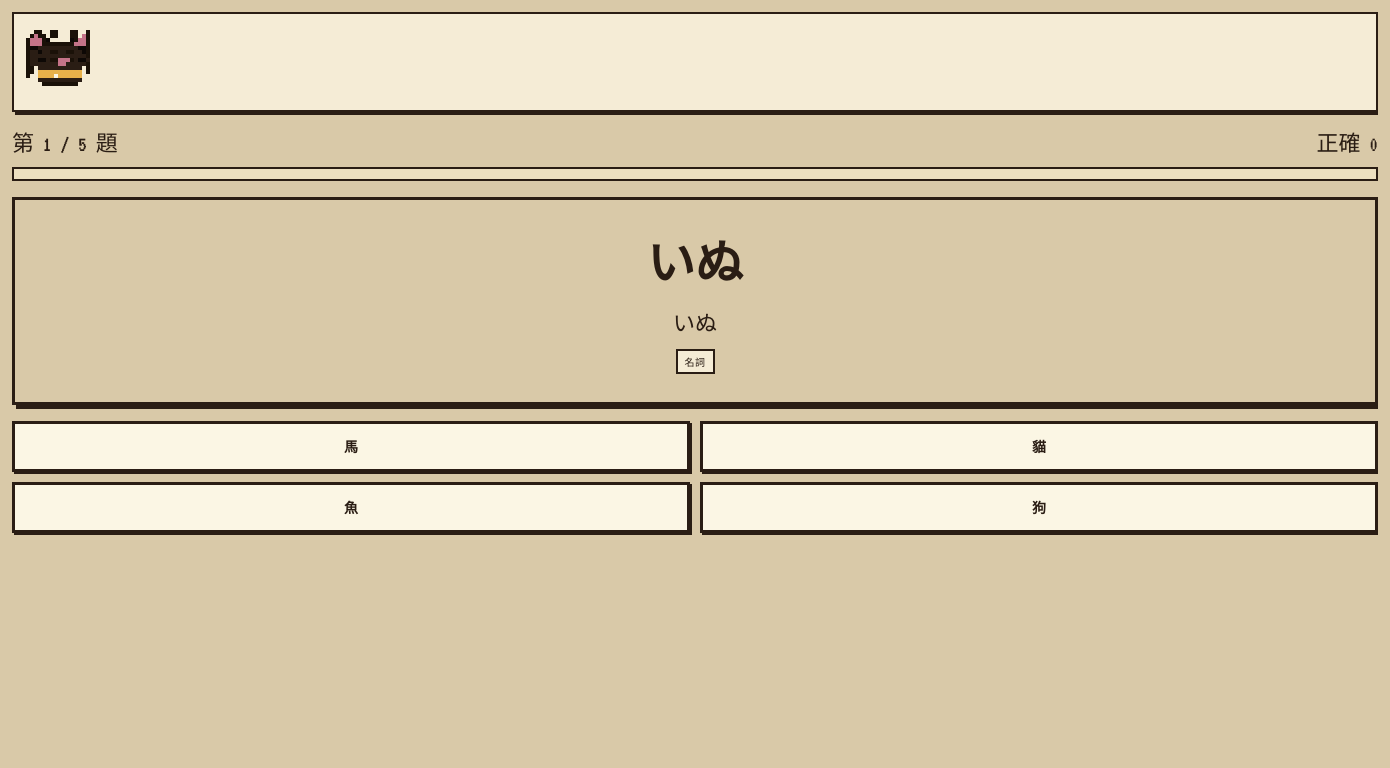
Test: VocabQuiz › increments correct count when correct answer is picked
The width and height of the screenshot is (1390, 768).
Click the button "狗": (1039, 508) [700,482,1378,533]
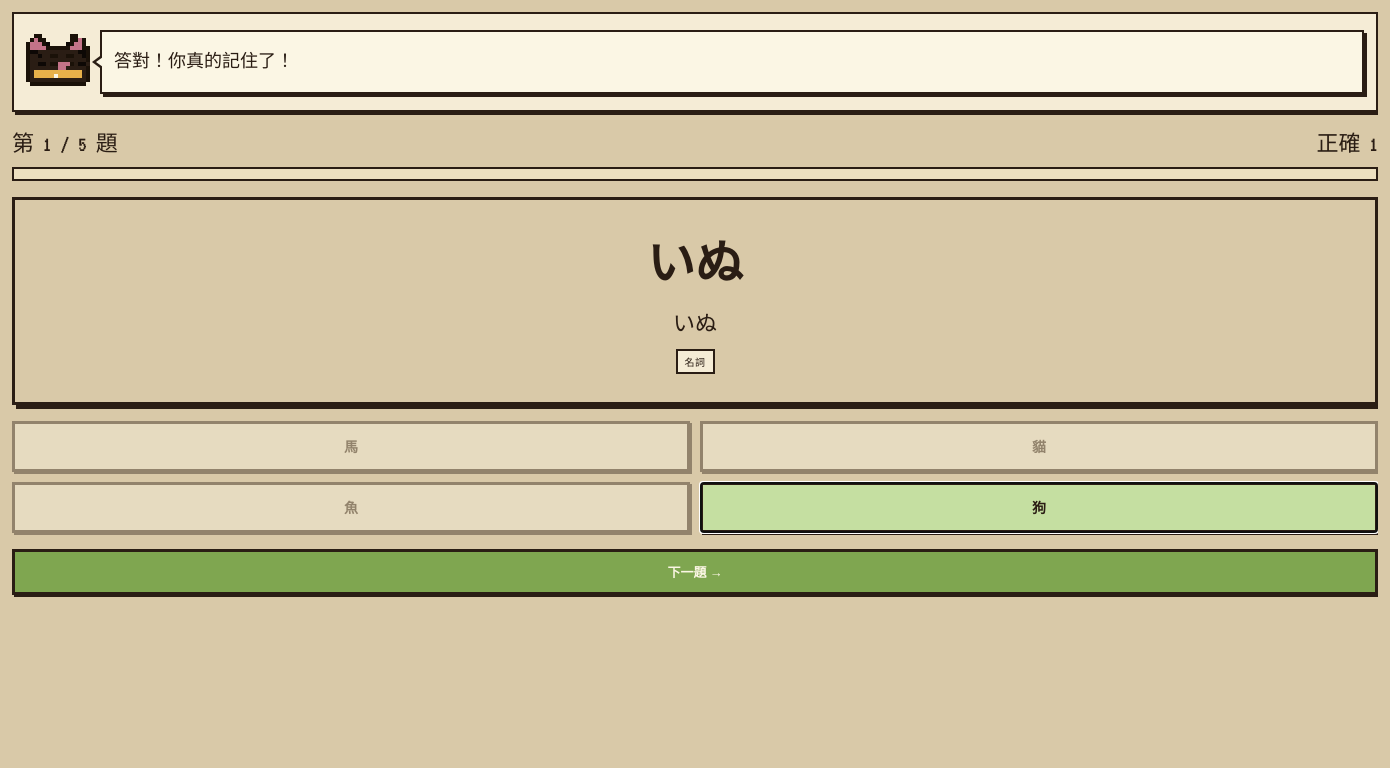
Expected: the text "正確 1" is shown, [1316,128,1378,161]
